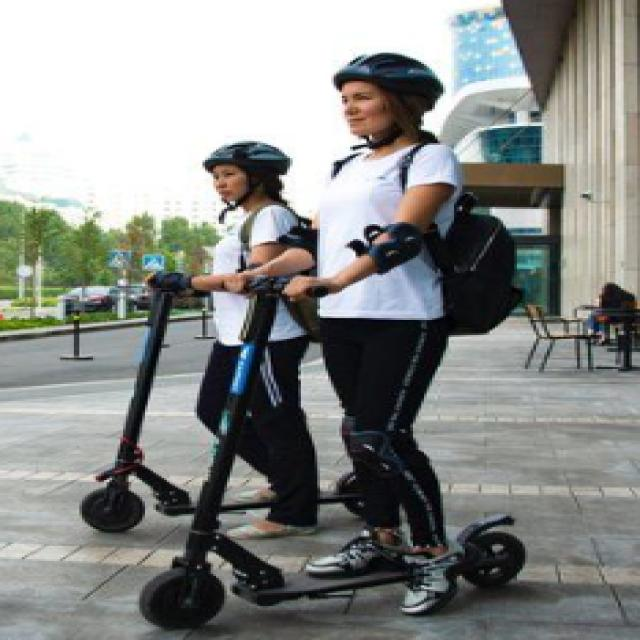helmet: (192, 34, 544, 628), (71, 137, 383, 543)
